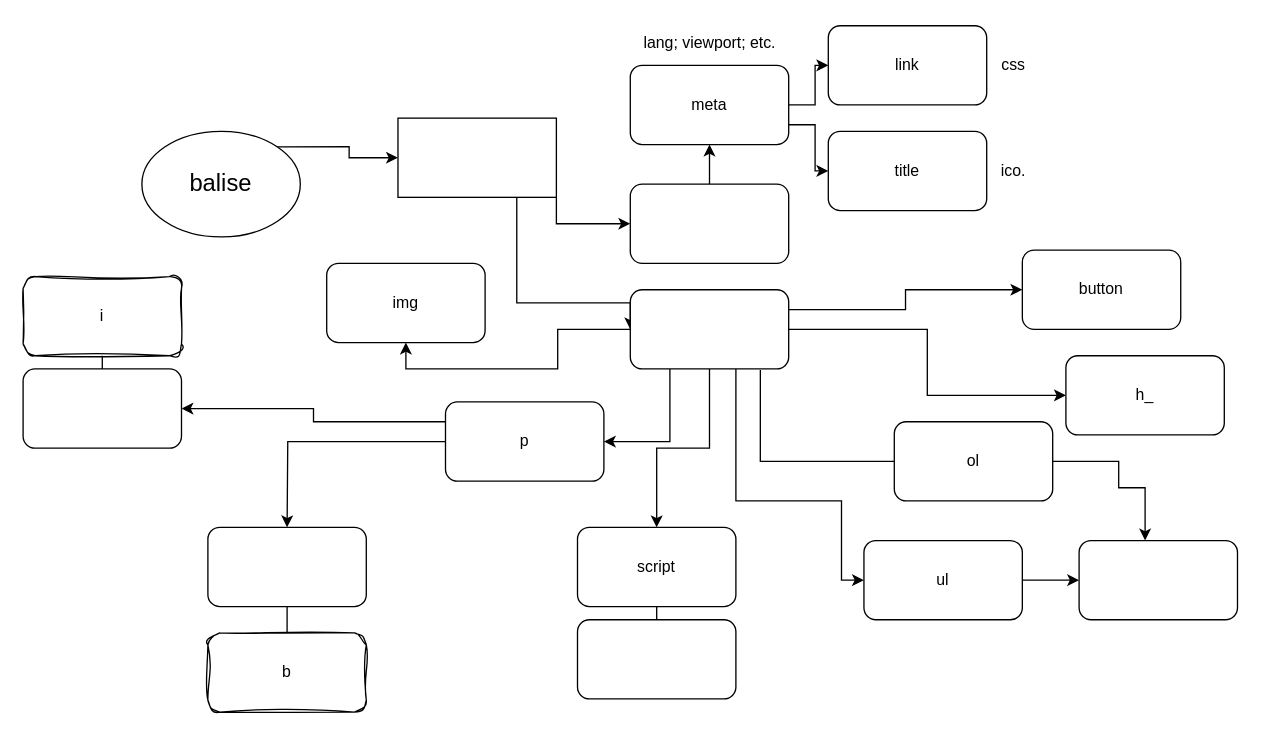
Image size: 1261x735. Some labels were removed from this diagram. The centre of each missing label's shape, as x and y in pixels:
"body" goes at pixel 709 328.
"doctype html" goes at pixel 476 157.
"em" goes at pixel 102 408.
"head" goes at pixel 709 223.
"li" goes at pixel 1158 579.
"noscript" goes at pixel 656 658.
"strong" goes at pixel 286 566.
